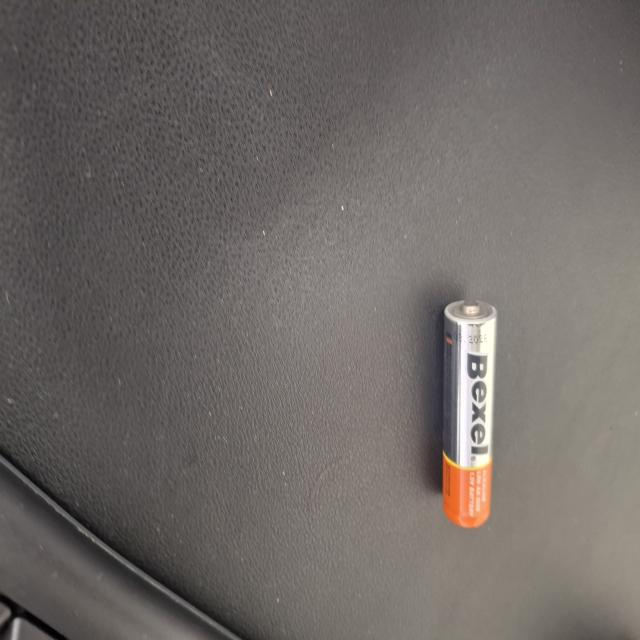AA: (225, 191, 395, 263)
